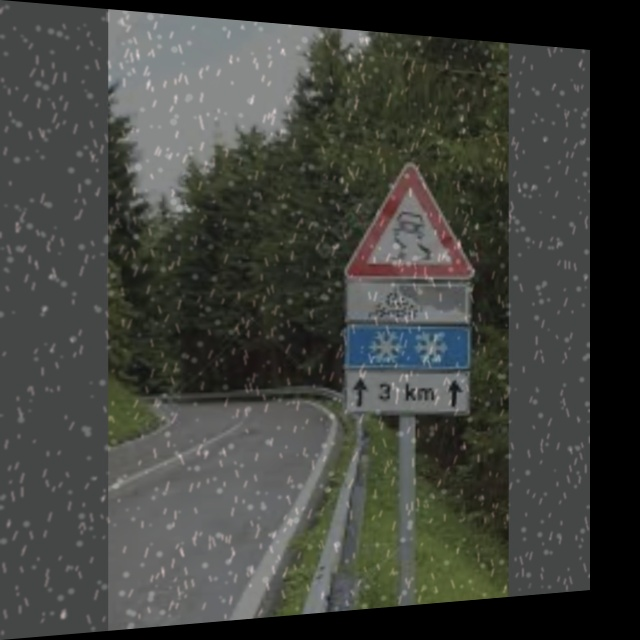Slippery_Road: (349, 159, 474, 278)
